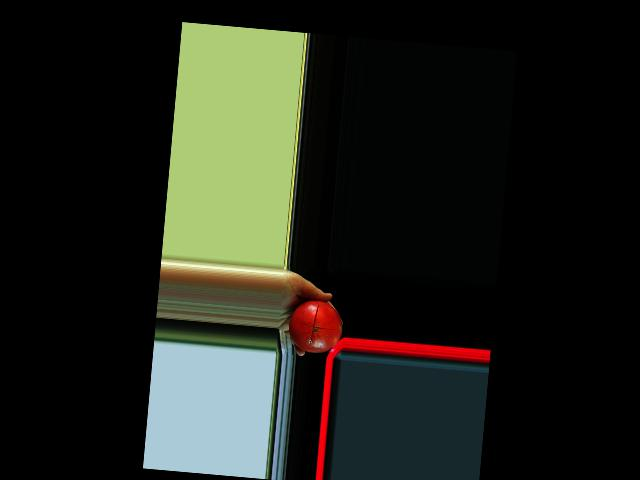tomato: (286, 298, 344, 355)
